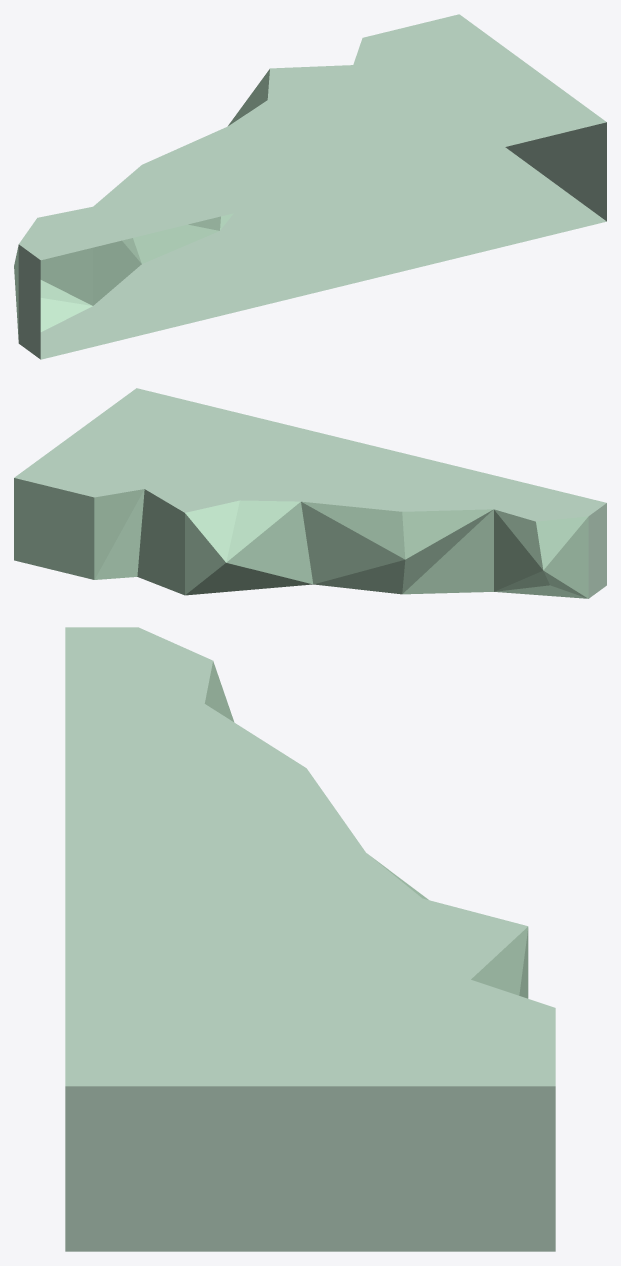
3 views of the same model, one above another, from view 1: azimuth 30°, elevation 25°; view 2: azimuth 150°, elevation 25°; view 3: azimuth 270°, elevation 25° (orthographic). The views are drawn at different scales.
Parts seen in each view (by area): view 1: Object16; view 2: Object16; view 3: Object16.
Part boxes in pixels (x1,y1,x2,y2): Object16: (14,14,606,359); Object16: (14,388,606,598); Object16: (65,627,555,1251).
Bounding box in the file's own units: 29843 × 5006 × 13475.
